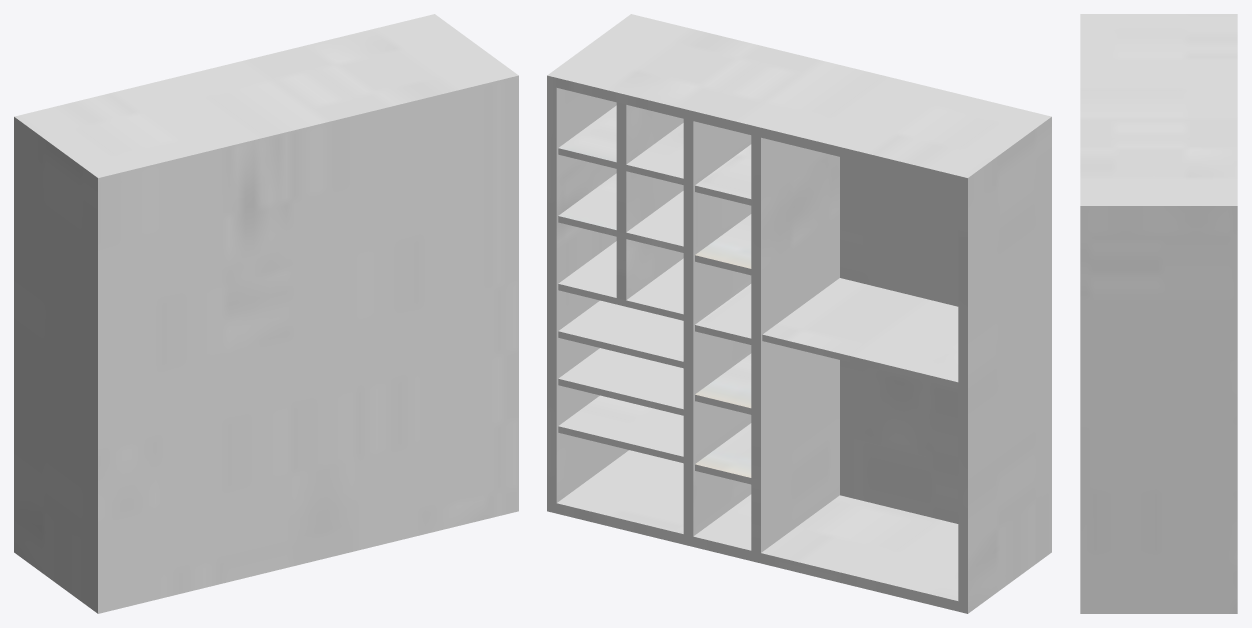
Rendered from Closet09.glb.
The picture shows the model from 3 angles, left to right: view 1: azimuth 30°, elevation 25°; view 2: azimuth 150°, elevation 25°; view 3: azimuth 270°, elevation 25°; orthographic projection. The views are drawn at different scales.
Visible parts, largest first — view 1: Closet09_model; view 2: Closet09_model; view 3: Closet09_model.
Boxes of the visible parts, x1=… form: Closet09_model: x1=14, y1=14, x2=518, y2=613; Closet09_model: x1=547, y1=14, x2=1051, y2=613; Closet09_model: x1=1080, y1=14, x2=1237, y2=613.
Bounding box in the file's own units: 5.65 × 5.6 × 1.96.
Materials: 1 (1 with a texture image).
